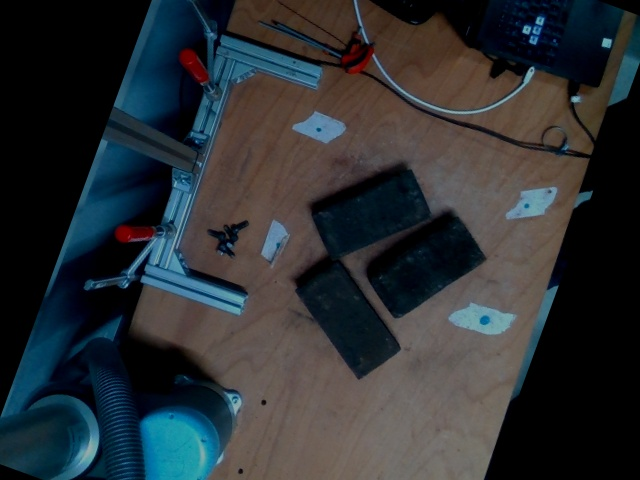brick: (369, 216, 488, 321), (298, 262, 402, 381), (312, 169, 433, 262)
